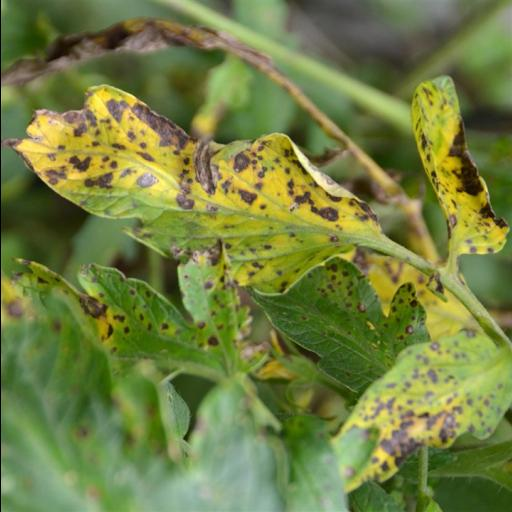Septoria: (13, 60, 392, 292), (12, 256, 268, 384), (332, 338, 508, 494), (244, 252, 436, 392), (407, 73, 505, 267)
